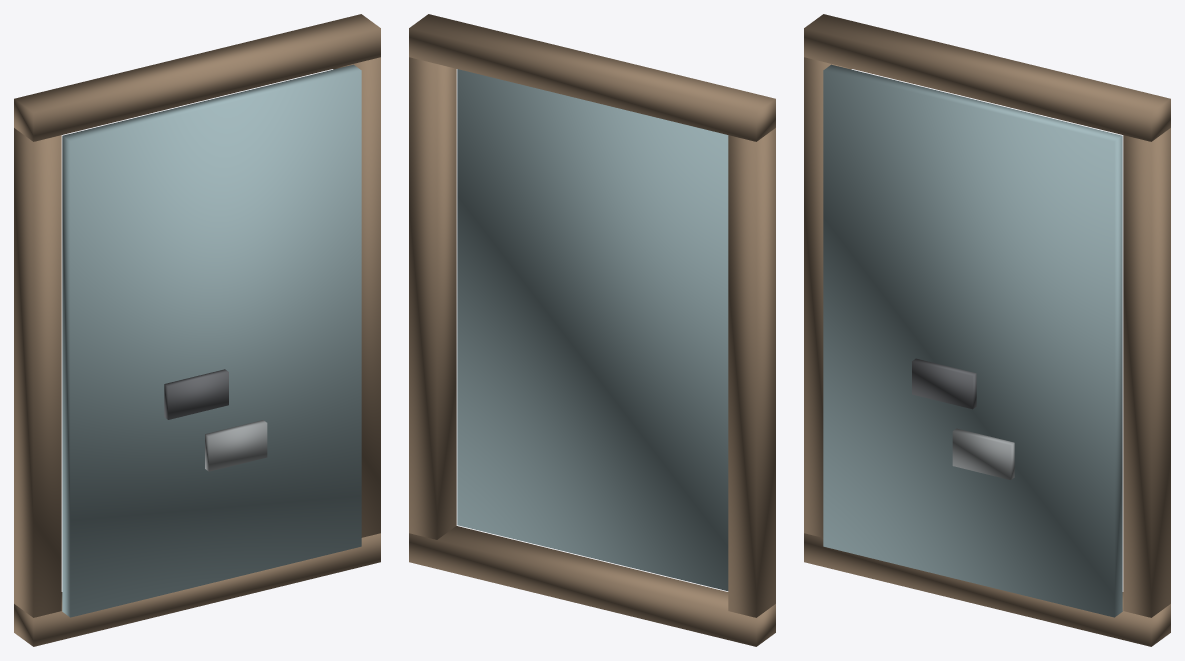
Rendered from motel_wall_mirror__weathered.glb.
3 renders of one model, left to right at view 1: azimuth 30°, elevation 25°; view 2: azimuth 150°, elevation 25°; view 3: azimuth 330°, elevation 25°, orthographic.
Parts seen in each view (by area): view 1: world; view 2: world; view 3: world.
Boxes of the visible parts, left/top/right/bottom form: world: left=14, top=14, right=380, bottom=646; world: left=409, top=14, right=775, bottom=646; world: left=804, top=14, right=1170, bottom=646.
Size of the model in its own units: 0.62 by 0.9108 by 0.1015.
